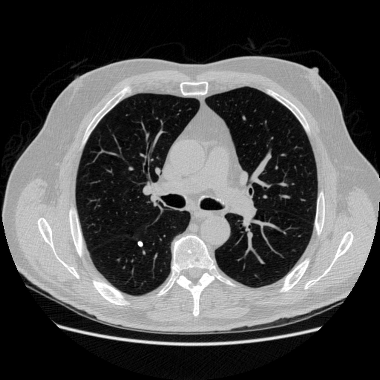nodule: (137, 241, 143, 247)
